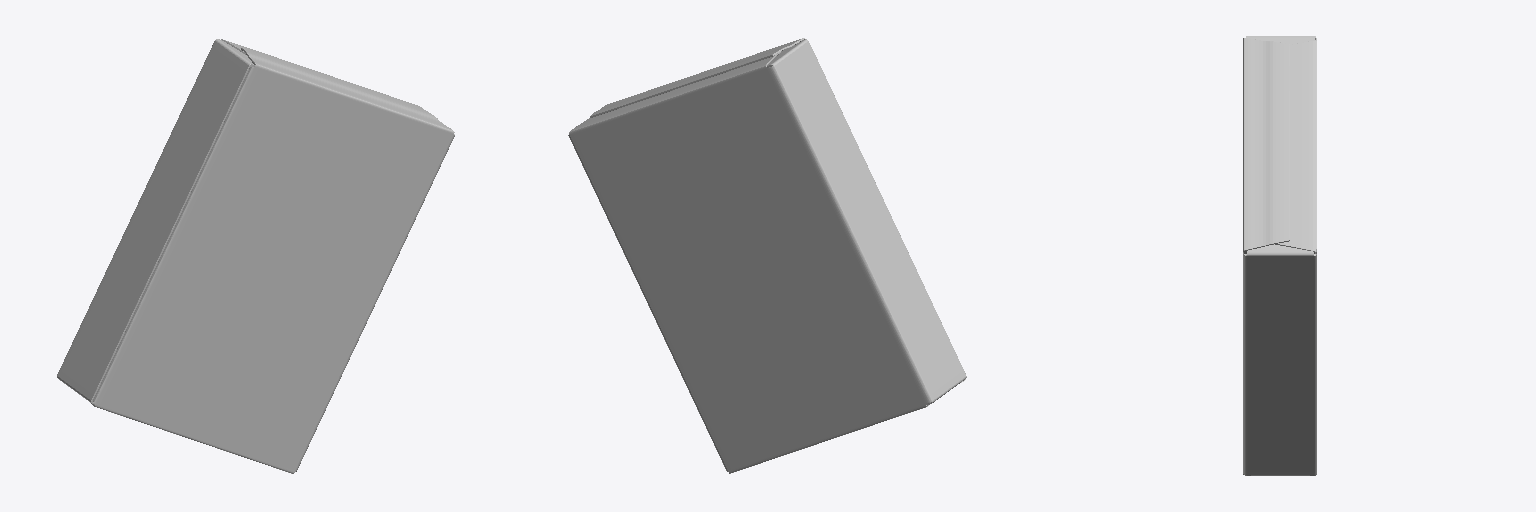
Rendered from box_of_cereal_xy_60d.obj.
The picture shows the model from 3 angles: view 1: azimuth 30°, elevation 25°; view 2: azimuth 150°, elevation 25°; view 3: azimuth 270°, elevation 25°; orthographic projection.
Parts seen in each view (by area): view 1: Box_Box_Box_Box_of_cerealCOL_jpg; view 2: Box_Box_Box_Box_of_cerealCOL_jpg; view 3: Box_Box_Box_Box_of_cerealCOL_jpg.
Boxes of the visible parts, x1,y1,x2,y2 form: Box_Box_Box_Box_of_cerealCOL_jpg: [57, 39, 454, 473]; Box_Box_Box_Box_of_cerealCOL_jpg: [568, 38, 966, 473]; Box_Box_Box_Box_of_cerealCOL_jpg: [1243, 36, 1316, 475].
Size of the model in its own units: 0.1239 by 0.1364 by 0.0218.